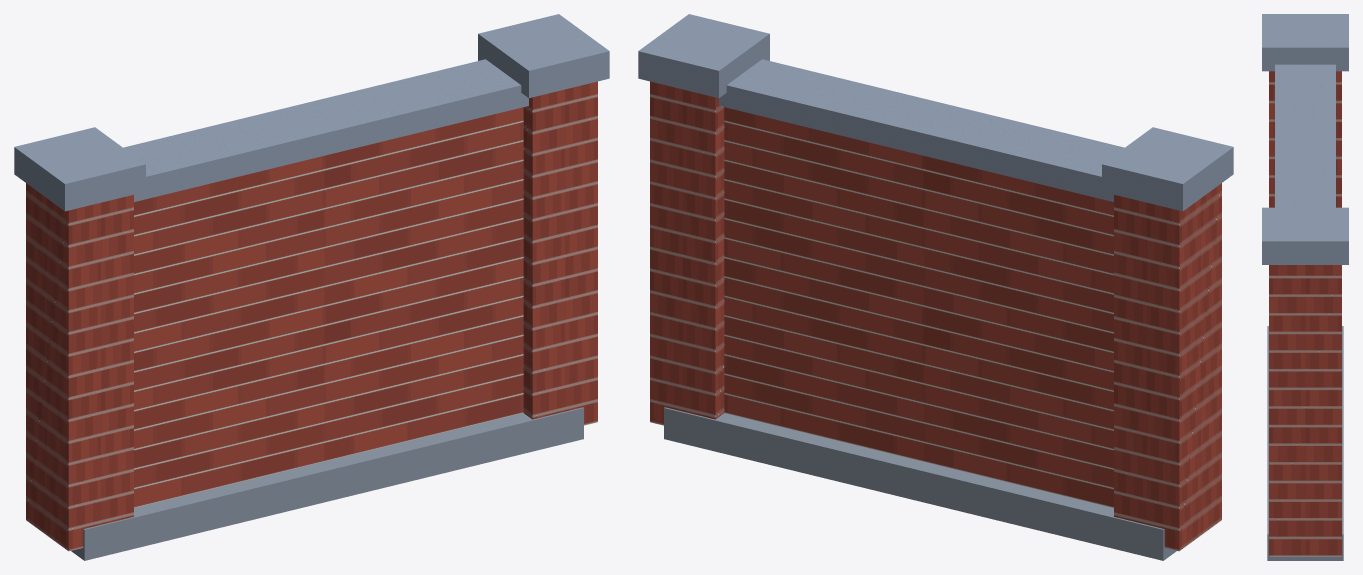
The model's file is wall_brick_segment.glb.
3 renders of one model, left to right at view 1: azimuth 30°, elevation 25°; view 2: azimuth 150°, elevation 25°; view 3: azimuth 270°, elevation 25°, orthographic. The views are drawn at different scales.
Visible parts, largest first — view 1: wall_brick_segment; view 2: wall_brick_segment; view 3: wall_brick_segment.
Boxes of the visible parts, box(x1,y1,x2,y2) form: wall_brick_segment: box(14, 14, 609, 560); wall_brick_segment: box(638, 14, 1233, 560); wall_brick_segment: box(1262, 14, 1348, 560).
Size of the model in its own units: 4.58 by 3.09 by 0.74.
Materials: 3 (2 with a texture image).
